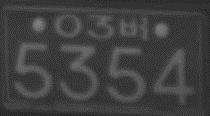0: (54, 13, 83, 38)
3: (58, 43, 99, 100), (86, 14, 114, 40)
4: (152, 47, 195, 105)
5: (106, 46, 146, 104), (13, 41, 52, 100)
버: (118, 16, 149, 41)
